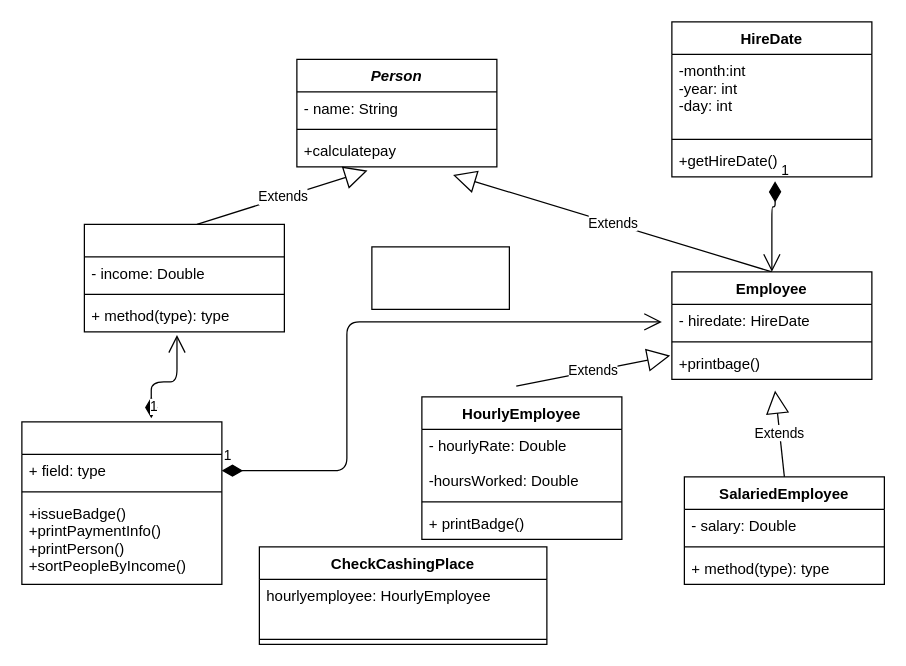
Image size: 906x666. Some labels were removed from this diagram. Each missing label, with the box of its shape:
Entrepenuer: (83, 223, 284, 332)
HumanResources: (21, 421, 222, 584)
«interface» iPayable: (371, 246, 509, 309)
